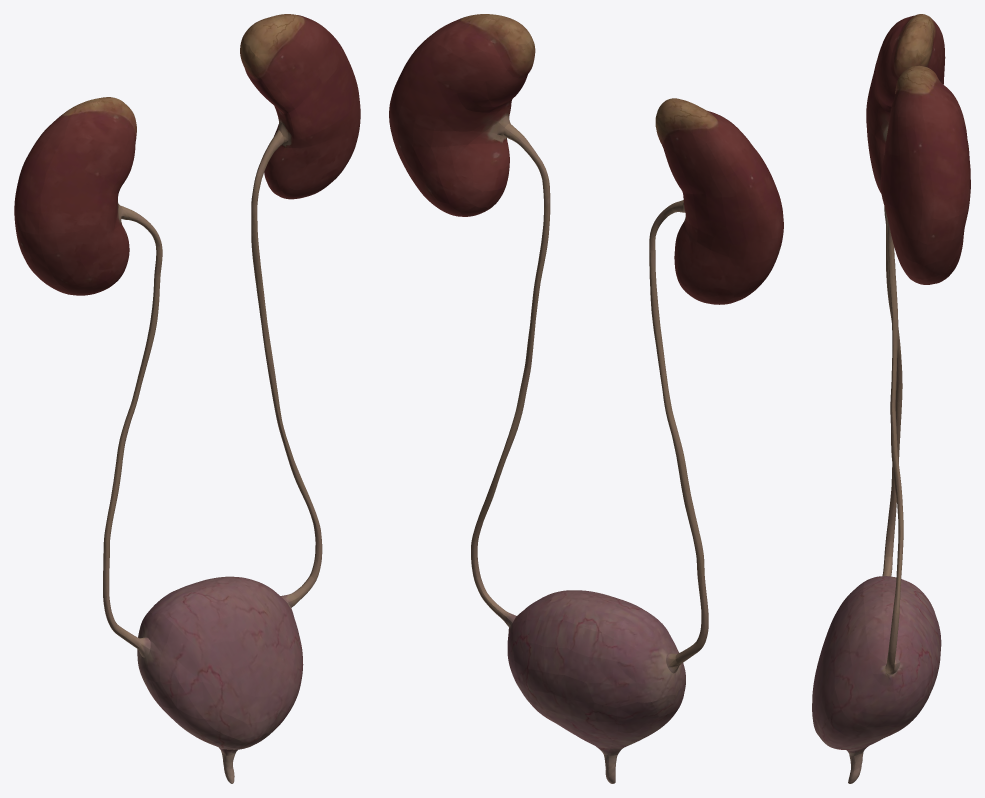
The model's file is kidneys.glb.
3 renders of one model, left to right at view 1: azimuth 30°, elevation 25°; view 2: azimuth 150°, elevation 25°; view 3: azimuth 270°, elevation 25°, orthographic. The views are drawn at different scales.
Parts seen in each view (by area): view 1: Bladder, KidneyR, KidneyL, UreterL, UreterR; view 2: Bladder, KidneyL, KidneyR, UreterR, UreterL; view 3: Bladder, KidneyL, KidneyR, UreterL, UreterR.
Part boxes in pixels (x1,y1,x2,y2): Bladder: [137, 576, 303, 783]; KidneyR: [14, 97, 136, 295]; KidneyL: [240, 14, 360, 199]; UreterL: [251, 130, 322, 607]; UreterR: [103, 206, 162, 657]; Bladder: [507, 590, 685, 783]; KidneyL: [389, 14, 535, 216]; KidneyR: [655, 98, 783, 304]; UreterR: [649, 200, 708, 673]; UreterL: [471, 123, 550, 627]; Bladder: [812, 576, 941, 783]; KidneyL: [881, 65, 970, 284]; KidneyR: [866, 14, 945, 193]; UreterL: [885, 218, 903, 674]; UreterR: [882, 206, 902, 576].
Size of the model in its own units: 0.171 by 0.3367 by 0.0646.
Materials: 1 (1 with a texture image).
